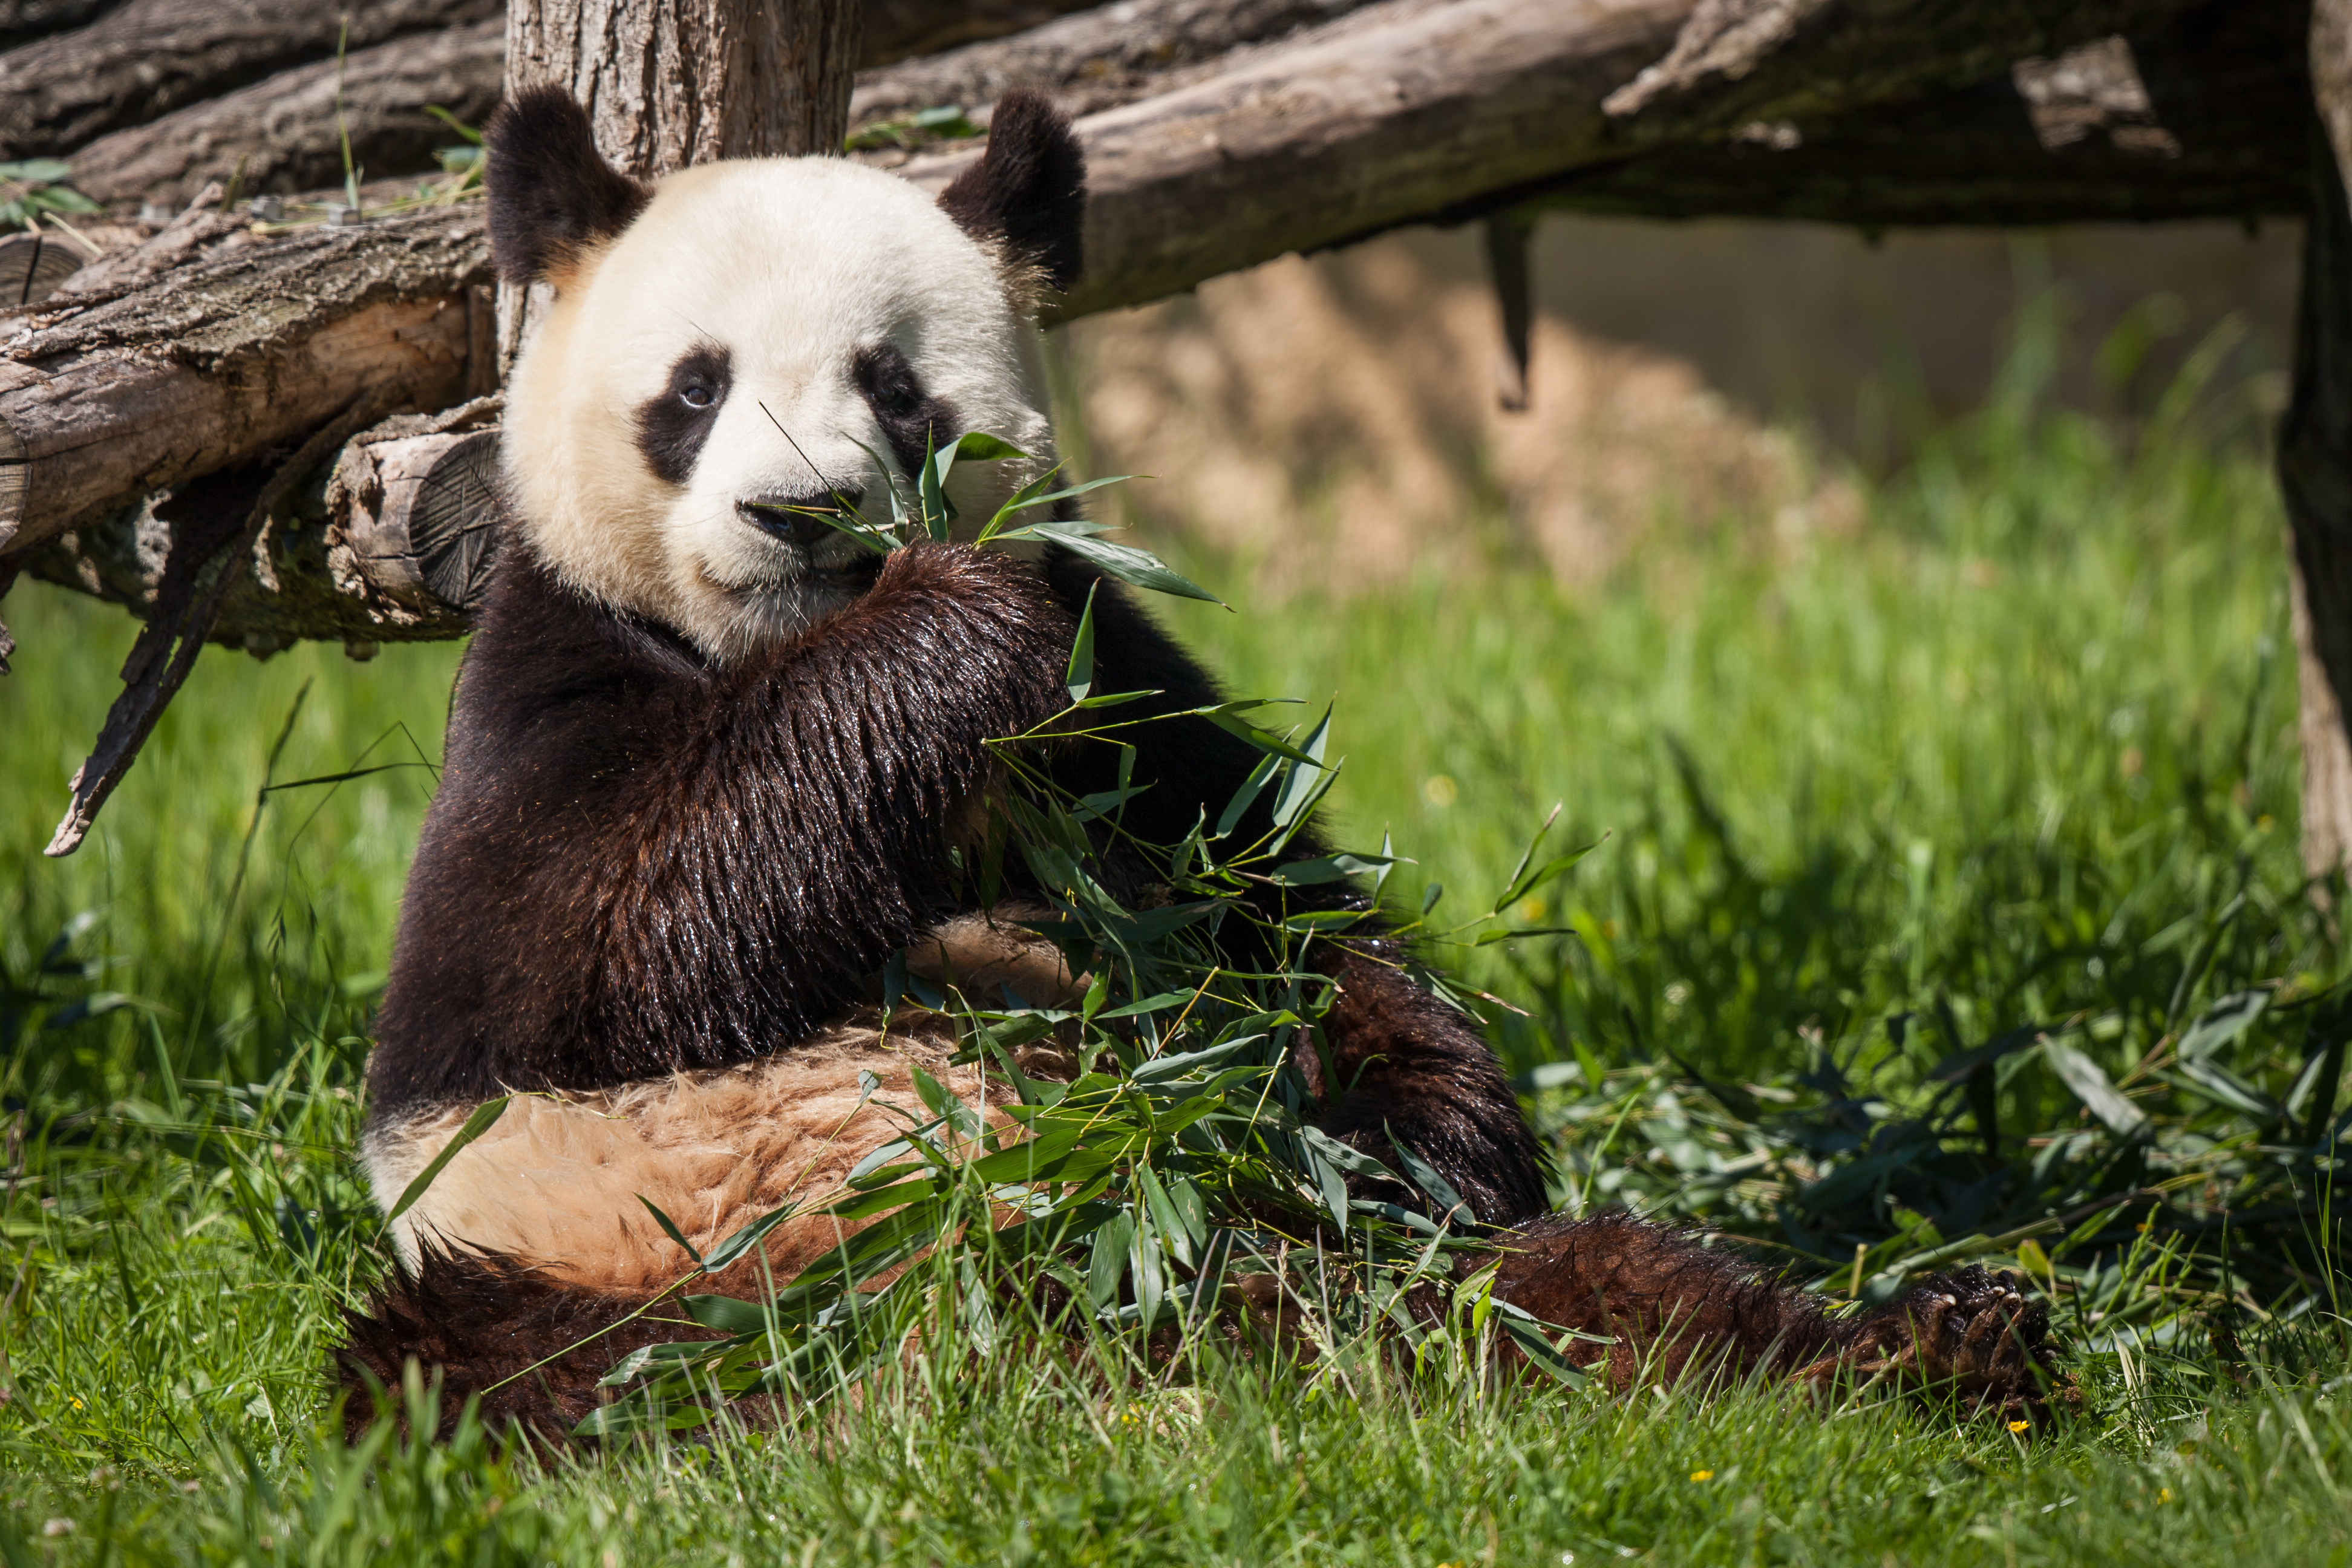panda: (325, 44, 1722, 1361)
